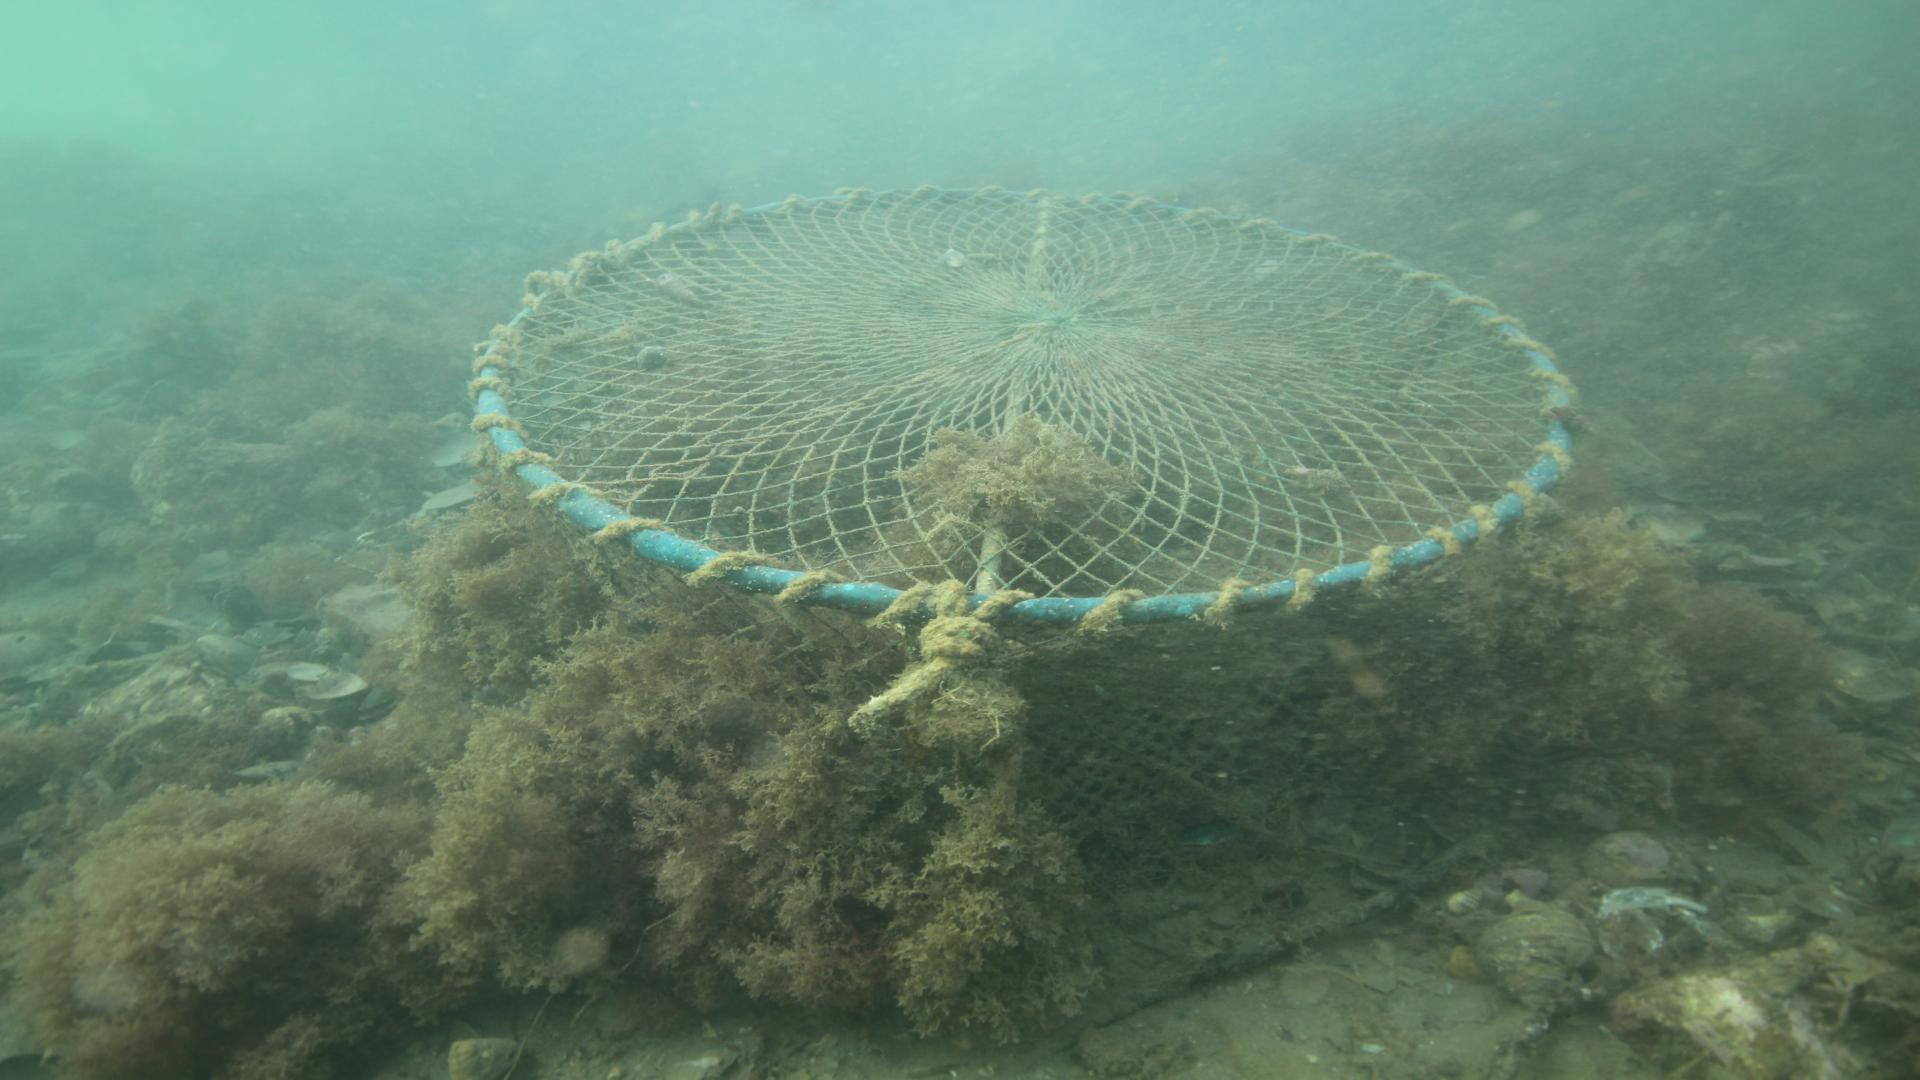circular fish trap: (464, 181, 1578, 845)
